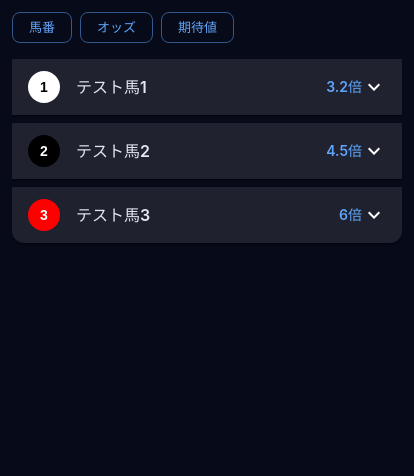
Test case: RaceTableMobileView › 複数のアコーディオンが独立して動作すること
The width and height of the screenshot is (414, 476).
Click the 1st icon with test id "ExpandMoreIcon": point(374, 87) [362,75,386,99]
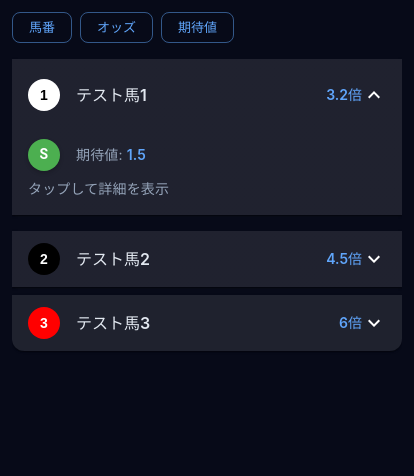
Click the 2nd icon with test id "ExpandMoreIcon": point(374, 259) [362,247,386,271]
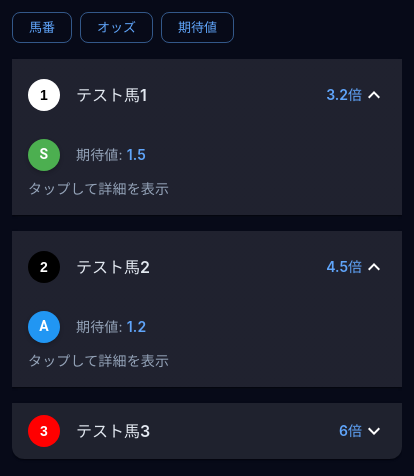
Check: the text "タップして詳細を表示" is shown 3 times
